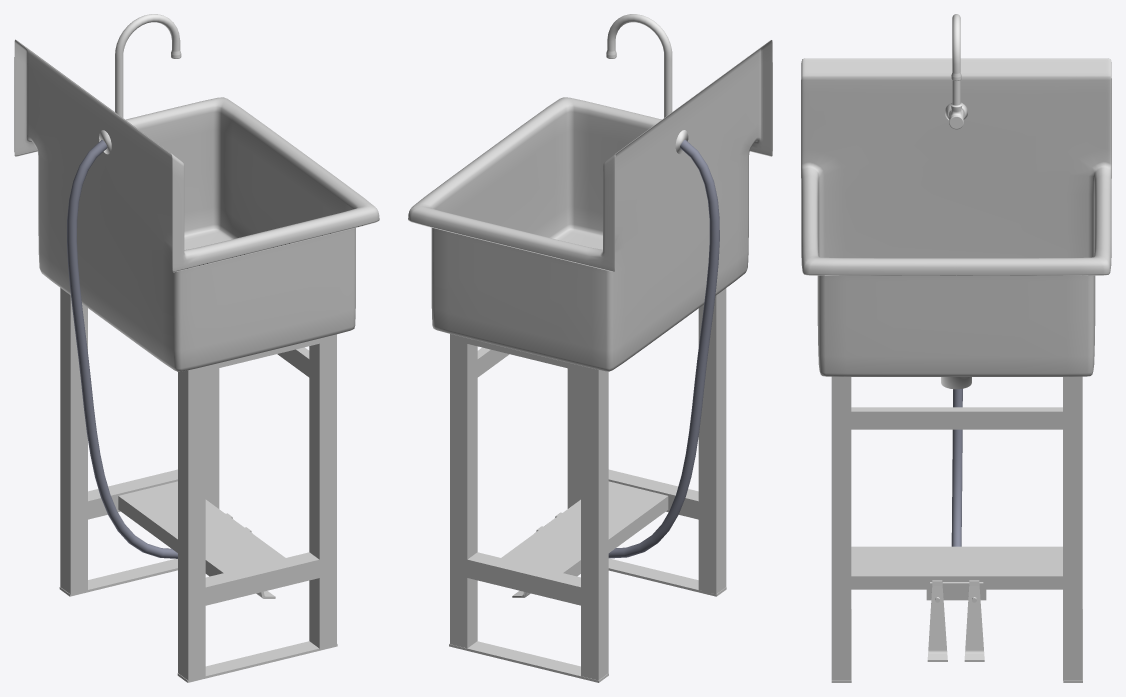
3 renders of one model, left to right at view 1: azimuth 30°, elevation 25°; view 2: azimuth 150°, elevation 25°; view 3: azimuth 270°, elevation 25°, orthographic.
Parts seen in each view (by area): view 1: Cube011, Cube, Cube003, Cube001, Cube007, BezierCurve, Cube005, Cube002, Cylinder001, Cube015, Cube006, Cube014 (+1 smaller); view 2: Cube011, Cube001, Cube002, Cube, Cube007, BezierCurve, Cube006, Cube003, Cylinder001, Cube014, Cube005, Cube015 (+1 smaller); view 3: Cube011, Cube007, Cube003, Cube002, Cube004, BezierCurve, Cylinder001, Cube017, Cube016.
Boxes of the visible parts, x1=… form: Cube011: x1=14, y1=39, x2=379, y2=371; Cube: x1=178, y1=366, x2=205, y2=681; Cube003: x1=309, y1=334, x2=336, y2=649; Cube001: x1=60, y1=288, x2=87, y2=594; Cube007: x1=118, y1=481, x2=285, y2=576; BezierCurve: x1=67, y1=140, x2=177, y2=558; Cube005: x1=205, y1=552, x2=320, y2=605; Cube002: x1=205, y1=368, x2=219, y2=508; Cylinder001: x1=99, y1=14, x2=181, y2=154; Cube015: x1=177, y1=641, x2=337, y2=682; Cube006: x1=86, y1=469, x2=177, y2=519; Cube014: x1=59, y1=558, x2=177, y2=596; Cube011: x1=408, y1=40, x2=772, y2=371; Cube001: x1=581, y1=366, x2=608, y2=680; Cube002: x1=450, y1=334, x2=477, y2=648; Cube: x1=698, y1=288, x2=726, y2=594; Cube007: x1=501, y1=481, x2=668, y2=576; BezierCurve: x1=608, y1=139, x2=719, y2=558; Cube006: x1=467, y1=552, x2=582, y2=605; Cube003: x1=567, y1=368, x2=580, y2=508; Cylinder001: x1=606, y1=14, x2=688, y2=154; Cube014: x1=449, y1=641, x2=608, y2=682; Cube005: x1=608, y1=469, x2=700, y2=519; Cube015: x1=608, y1=558, x2=726, y2=596; Cube011: x1=801, y1=58, x2=1111, y2=376; Cube007: x1=851, y1=546, x2=1062, y2=589; Cube003: x1=831, y1=376, x2=851, y2=680; Cube002: x1=1063, y1=376, x2=1082, y2=680; Cube004: x1=851, y1=407, x2=1062, y2=429; BezierCurve: x1=951, y1=389, x2=962, y2=546; Cylinder001: x1=945, y1=14, x2=967, y2=129; Cube017: x1=964, y1=580, x2=984, y2=661; Cube016: x1=927, y1=580, x2=947, y2=661.
Size of what is drawn, in the model's own units: 0.5401 by 1.34 by 0.6247.
